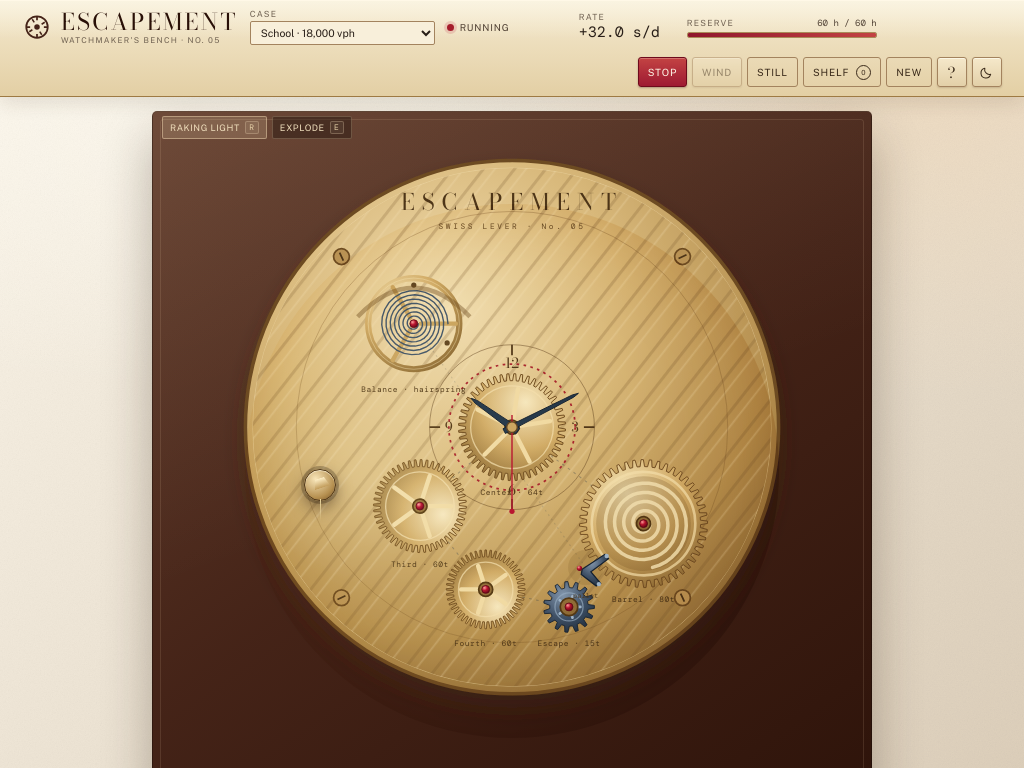
Scenario: bench shell › shows the Marine at zero reserve as stopped, not with a fabricated rate
The width and height of the screenshot is (1024, 768).
Select "Marine · 28,800 vph" in the dropdown labelled "Case": (342, 33) [250,21,435,45]
(page scrolled)
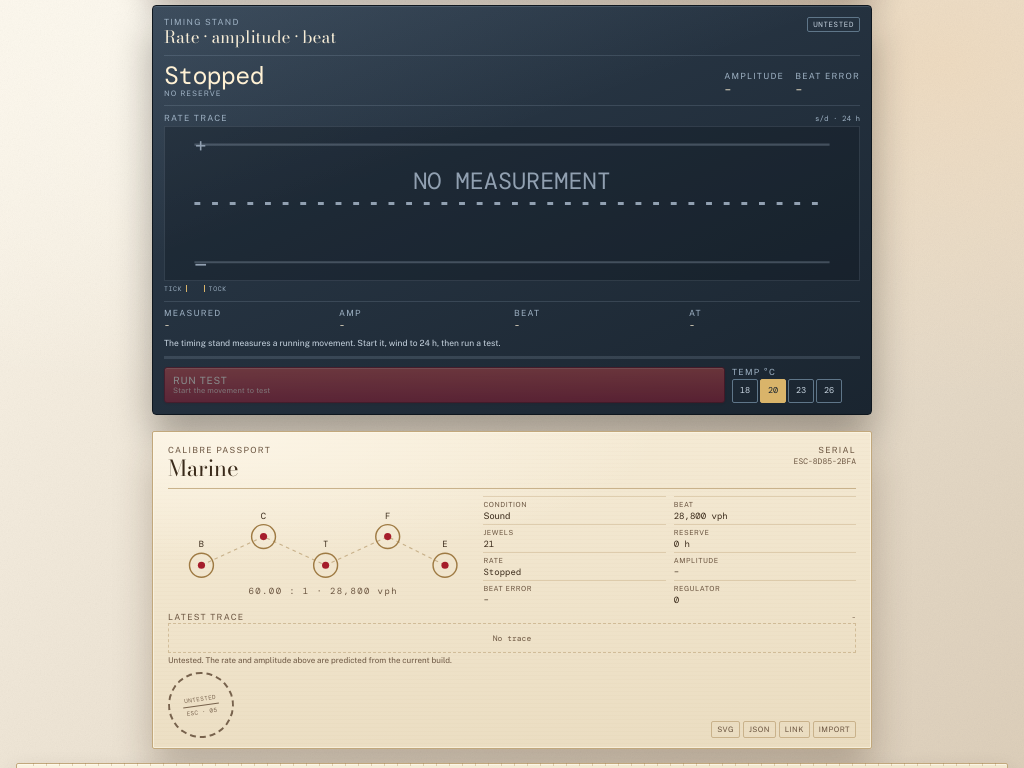
Expected: the button "Run test Start the movement to test" is disabled, [164,367,725,403]
